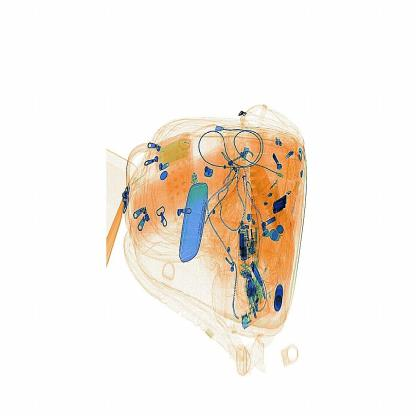knife: (268, 192, 290, 217)
